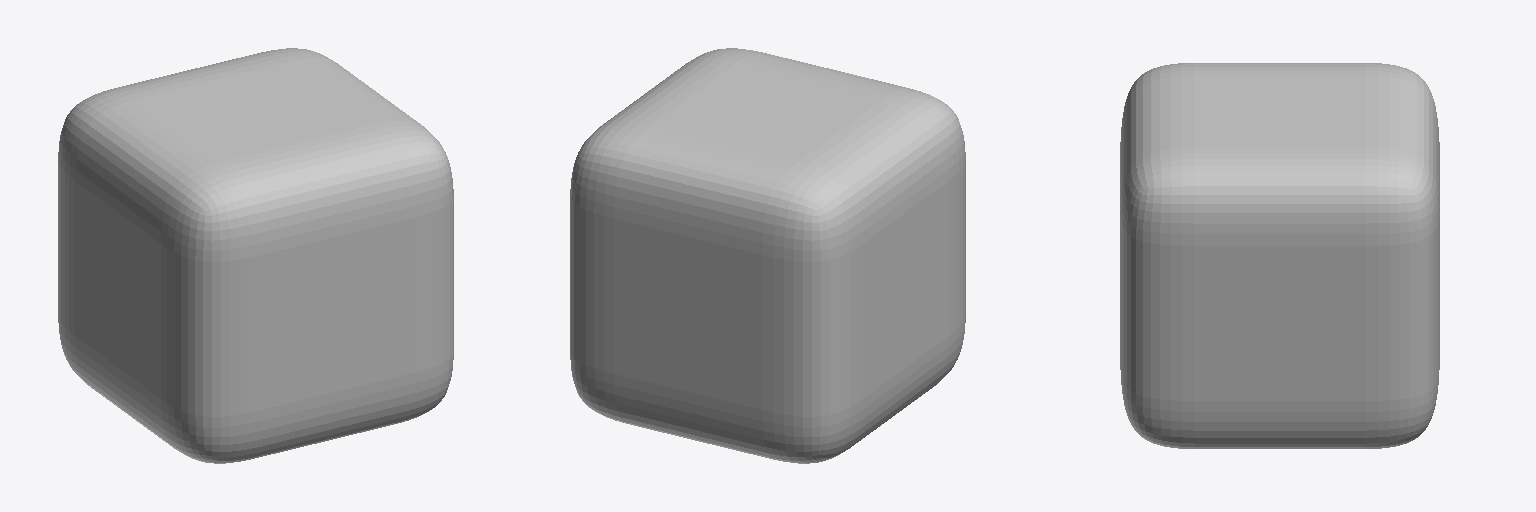
Rendered from CubeNoteSmooth.obj.
3 renders of one model, left to right at view 1: azimuth 30°, elevation 25°; view 2: azimuth 150°, elevation 25°; view 3: azimuth 270°, elevation 25°, orthographic.
Visible parts, largest first — view 1: CubeNoteSmooth_0; view 2: CubeNoteSmooth_0; view 3: CubeNoteSmooth_0.
Part boxes in pixels (x1,y1,x2,y2): CubeNoteSmooth_0: (58,48,453,463); CubeNoteSmooth_0: (570,48,965,463); CubeNoteSmooth_0: (1120,63,1439,448).
Size of the model in its own units: 0.4988 by 0.4988 by 0.4988.